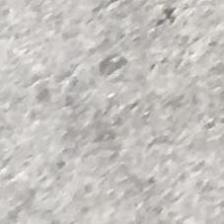Non_Crack: (16, 38, 192, 182)
